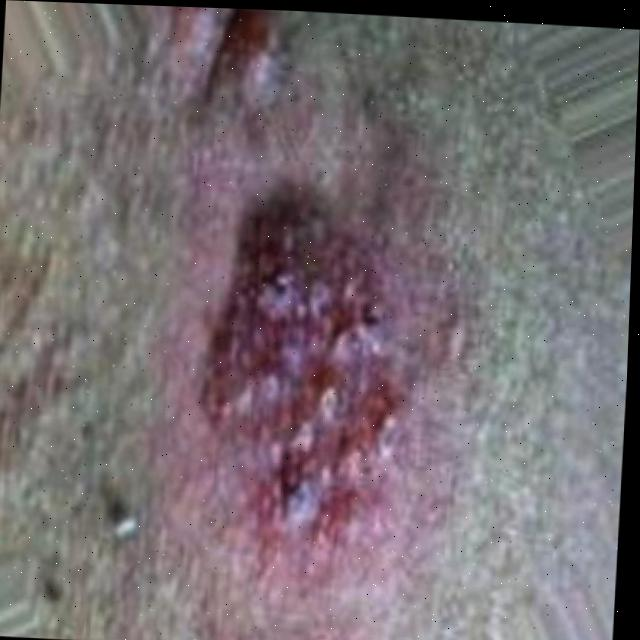Shingles: (206, 242, 409, 559)
